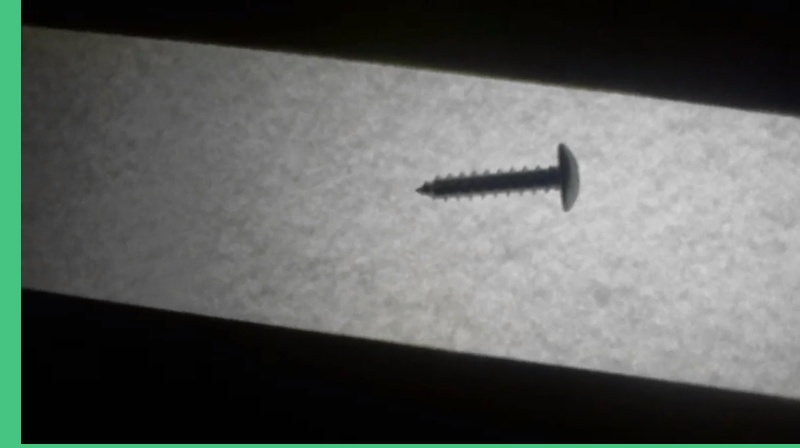S003: (410, 140, 586, 212)
